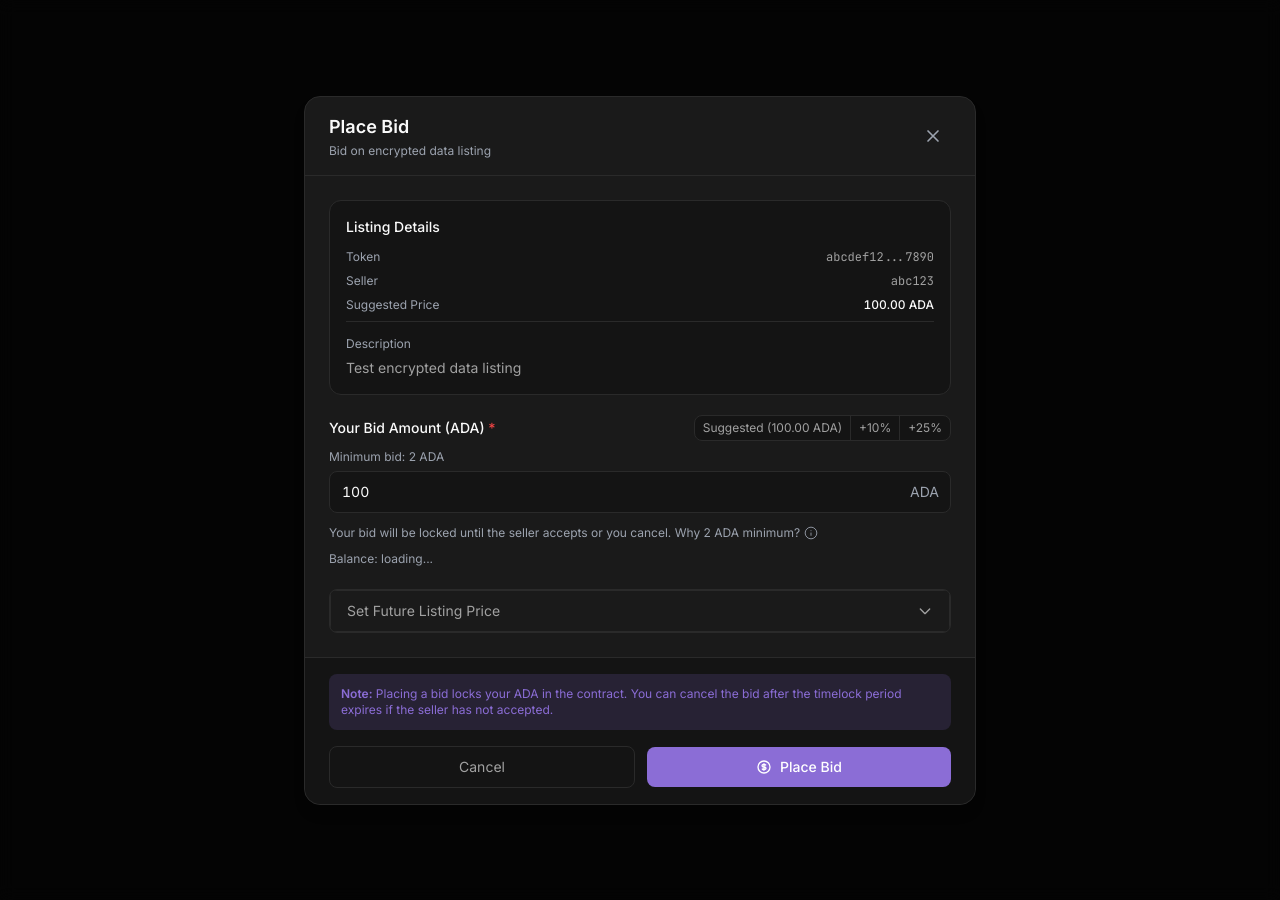
Scenario: PlaceBidModal › validates empty bid amount on submit
Clear the field labelled "Your Bid Amount (ADA) *" at (640, 492), box [329,470,951,512]
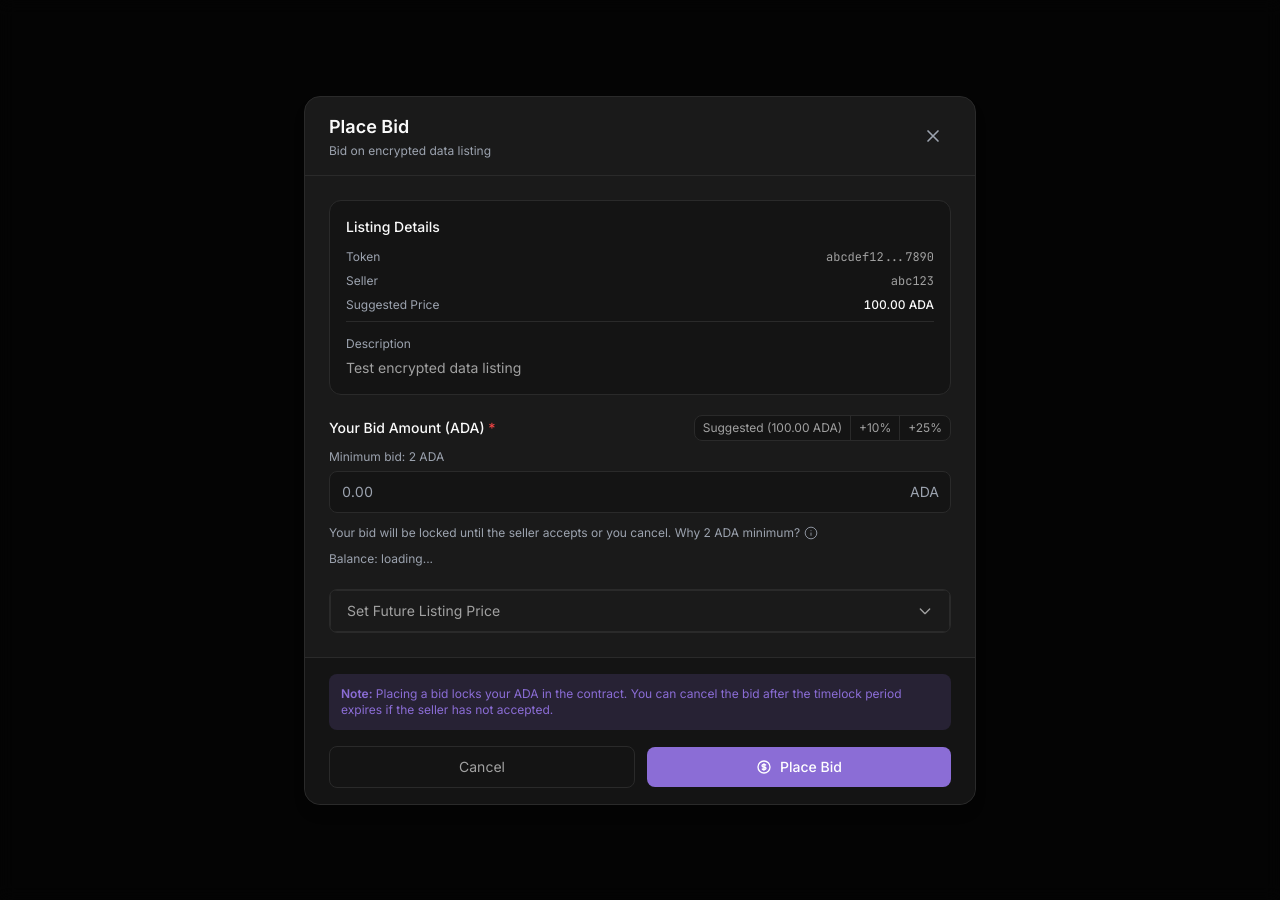
Click the button "Place Bid".
click(799, 766)  # box [647,746,951,786]
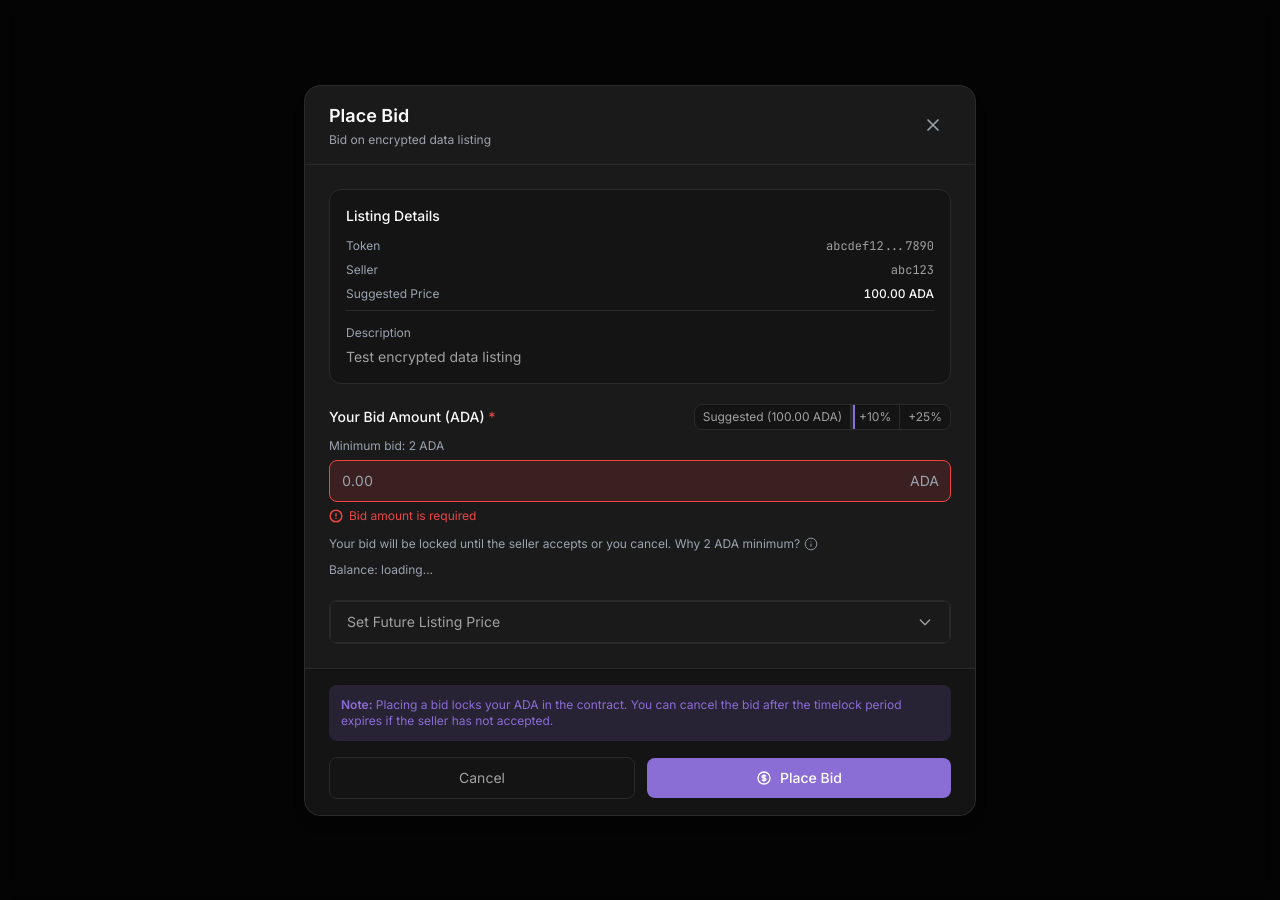
Result: the text "Bid amount is required" is shown at [349,508,476,522]
